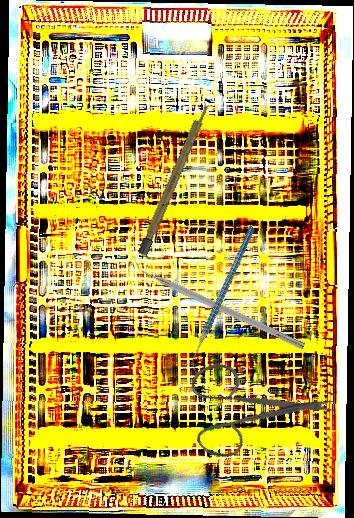Chopper: (150, 224, 298, 376), (127, 252, 310, 350)
Iris Scissors: (162, 315, 341, 494)
Scalpel Handle: (137, 99, 212, 257)
